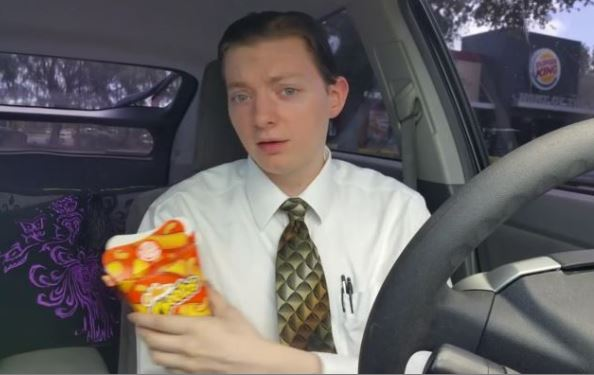BeautifulFace: (192, 10, 360, 180)
CheesyTots: (90, 210, 225, 361)
Tie: (247, 191, 352, 372)
